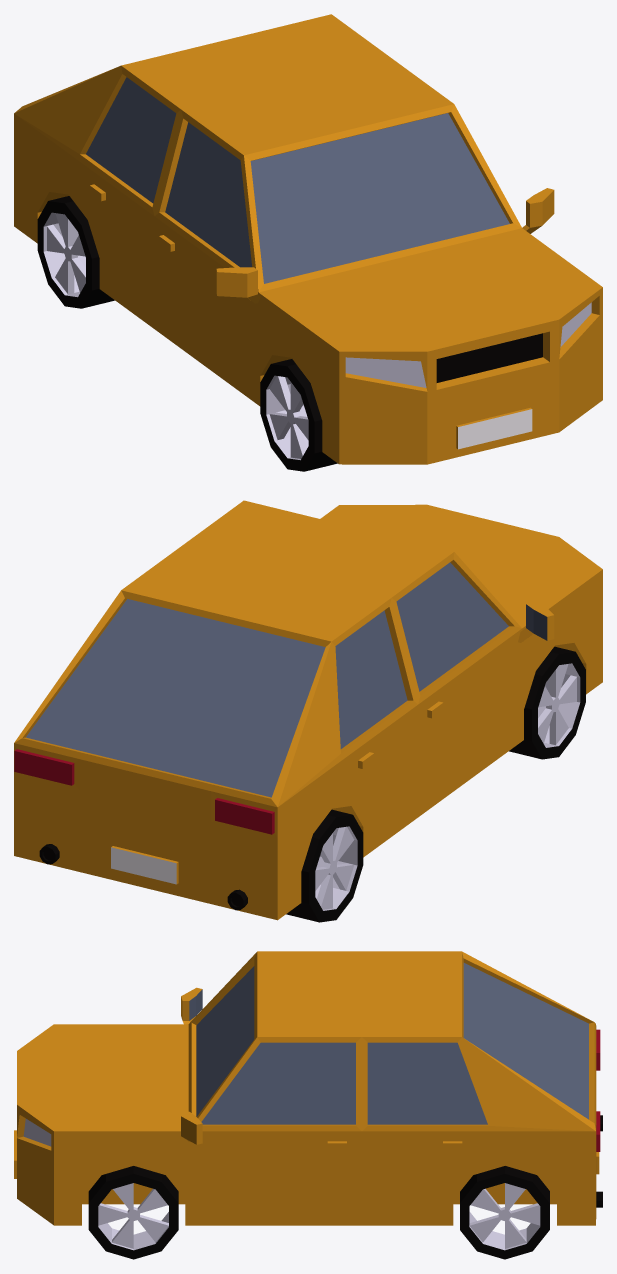
Rendered from Hatchback.glb.
3 renders of one model, top to bottom at view 1: azimuth 30°, elevation 25°; view 2: azimuth 150°, elevation 25°; view 3: azimuth 270°, elevation 25°, orthographic. The views are drawn at different scales.
Visible parts, largest first — view 1: Hatchback, Hatchback wheel front right, Hatchback wheel rear right; view 2: Hatchback, Hatchback wheel rear right, Hatchback wheel front right; view 3: Hatchback, Hatchback wheel front left, Hatchback wheel rear left.
Boxes of the visible parts, <box> form: Hatchback: <box>14,14,602,464</box>; Hatchback wheel front right: <box>260,359,337,471</box>; Hatchback wheel rear right: <box>37,196,114,308</box>; Hatchback: <box>14,500,602,920</box>; Hatchback wheel rear right: <box>286,809,363,922</box>; Hatchback wheel front right: <box>509,646,585,759</box>; Hatchback: <box>14,951,602,1225</box>; Hatchback wheel front left: <box>88,1166,178,1259</box>; Hatchback wheel rear left: <box>460,1166,549,1259</box>.
Bounding box in the file's own units: 281 × 201 × 511.
